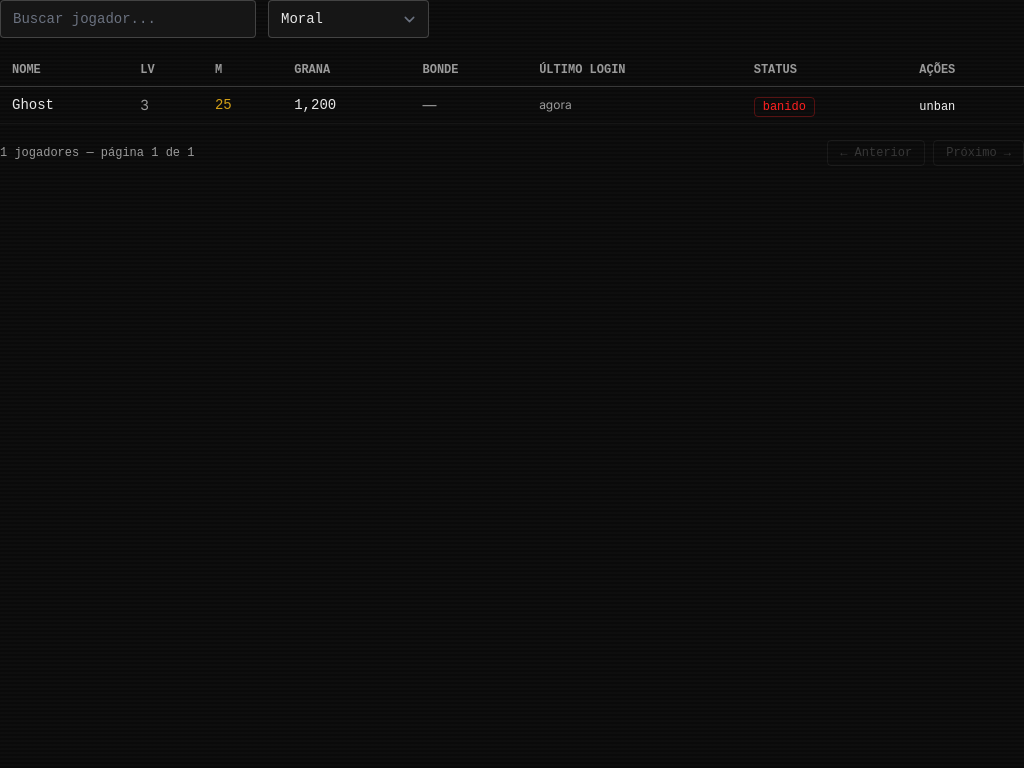
Test case: PlayersTab › should unban a player after confirmation
Click the button "unban". click: (937, 107)
box: [919,99,955,115]
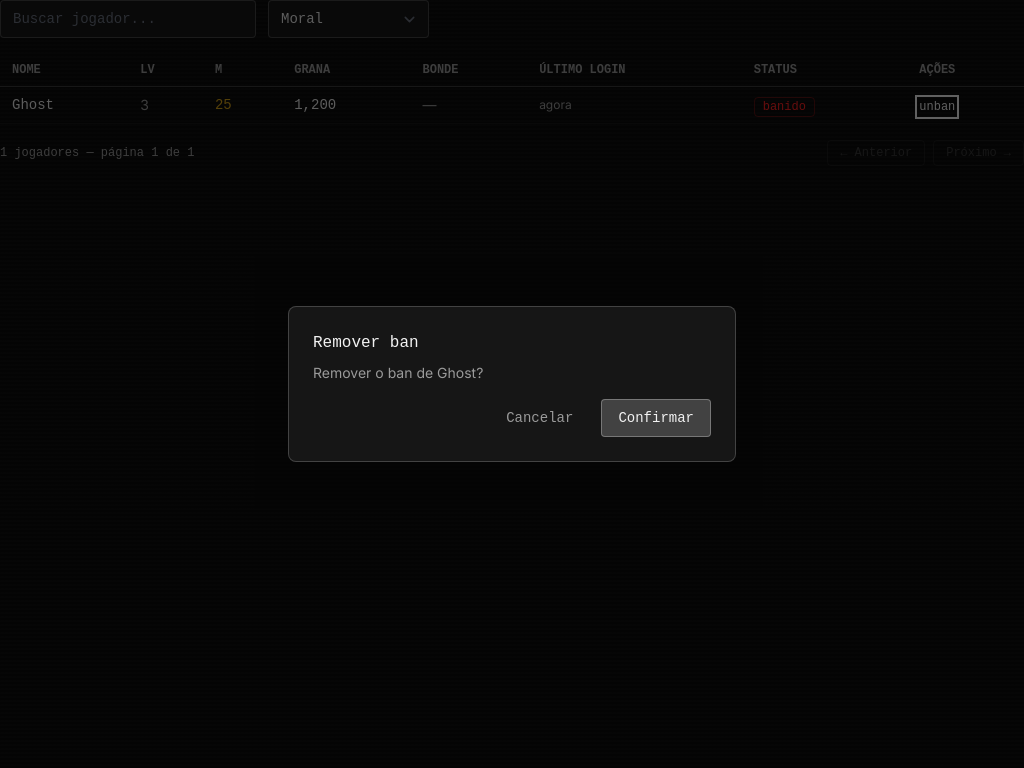
Expected: the heading "Remover ban" is shown, [313,334,419,352]
Click the button "Confirmar". click: (656, 418)
box: [601,399,711,437]
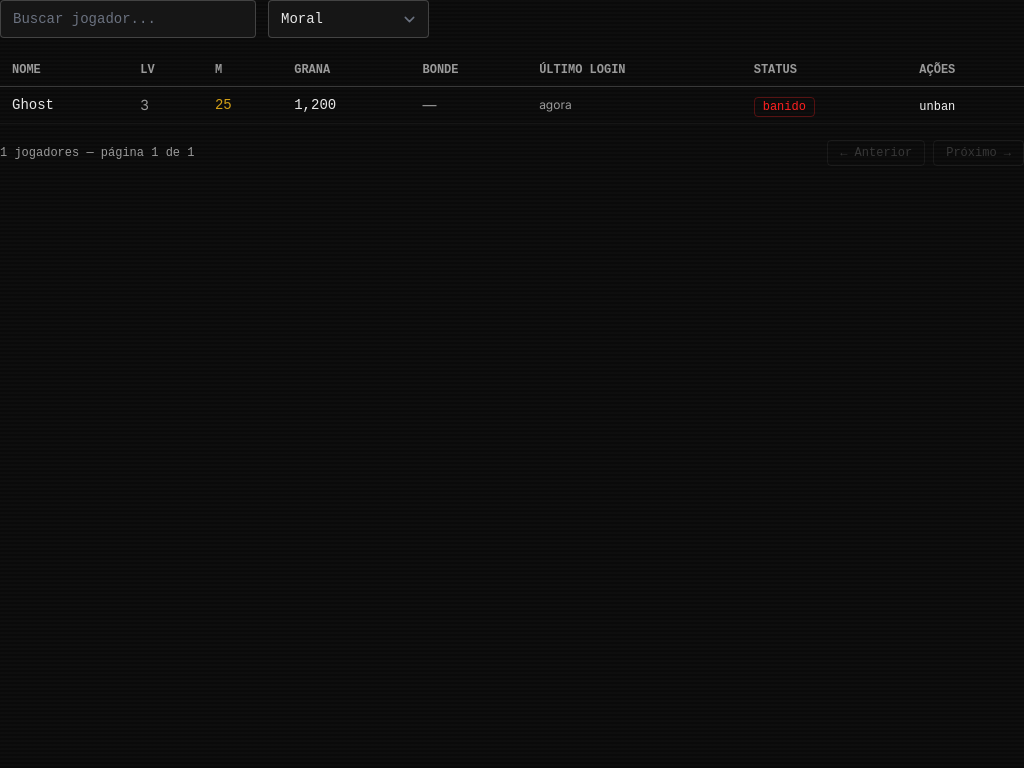
Expected: the heading "Remover ban" is gone
